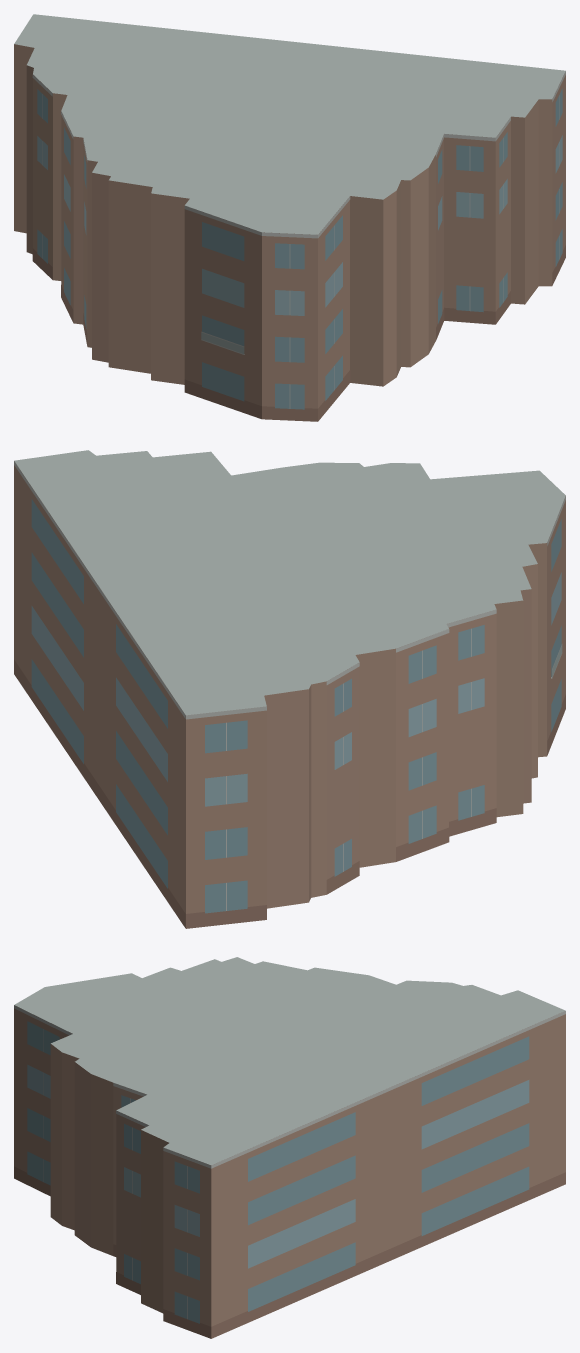
File: survey-upis-32999425.glb
3 renders of one model, top to bottom at view 1: azimuth 30°, elevation 25°; view 2: azimuth 150°, elevation 25°; view 3: azimuth 270°, elevation 25°, orthographic. The views are drawn at different scales.
Parts seen in each view (by area): view 1: survey-upis-32999425.tmp; view 2: survey-upis-32999425.tmp; view 3: survey-upis-32999425.tmp.
Boxes of the visible parts, x1,y1,x2,y2 form: survey-upis-32999425.tmp: (14, 14, 565, 421); survey-upis-32999425.tmp: (14, 450, 565, 928); survey-upis-32999425.tmp: (14, 957, 565, 1338).
Size of the model in its own units: 32.45 by 12.6 by 36.32.
